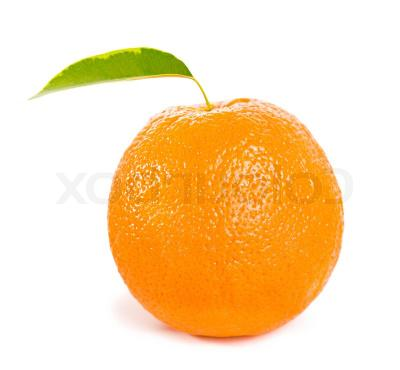orange: (0, 0, 400, 370)
